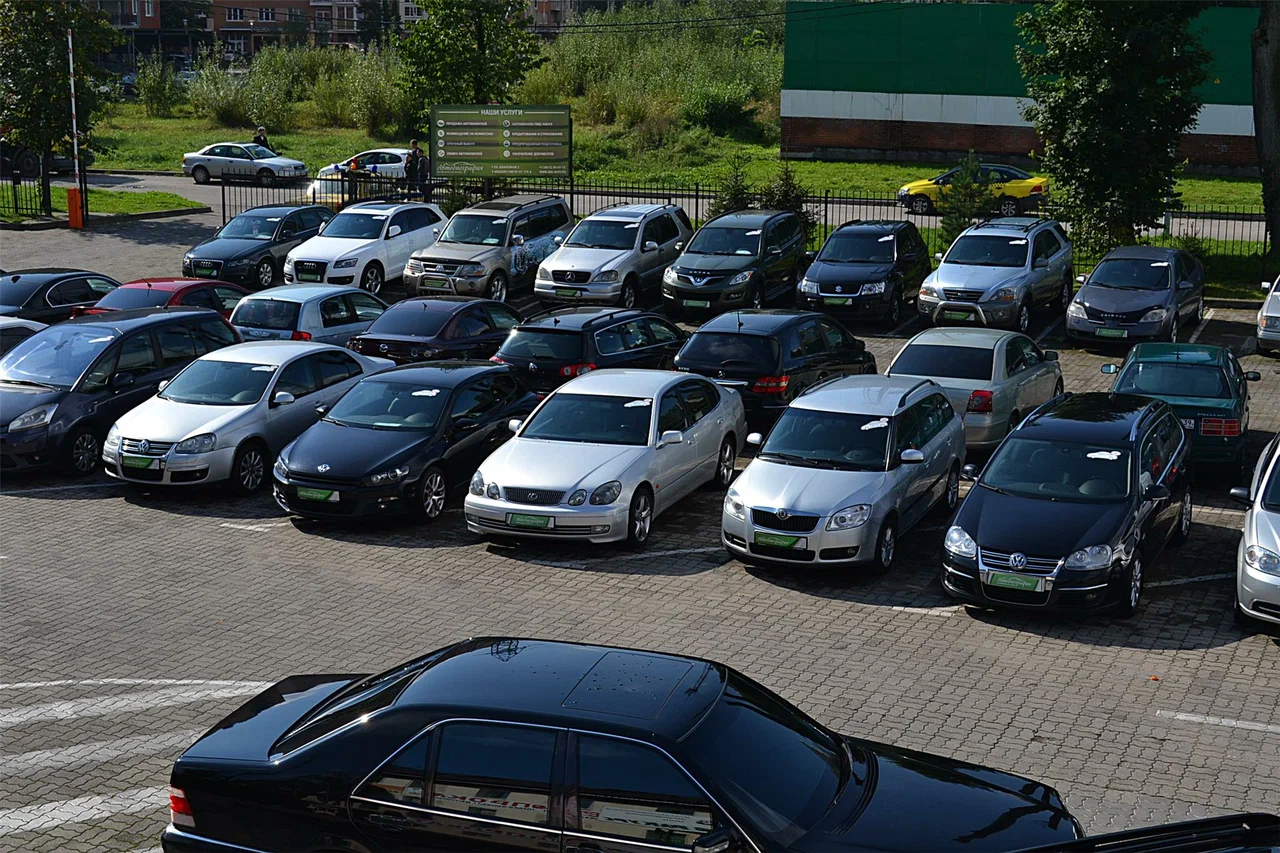Car: (161, 636, 1082, 853), (940, 391, 1192, 616), (464, 369, 747, 552), (721, 373, 970, 574), (271, 358, 544, 523), (103, 340, 395, 491), (0, 305, 243, 476), (670, 310, 878, 432), (884, 326, 1065, 451), (1101, 342, 1262, 478), (402, 192, 575, 302), (490, 305, 691, 396), (918, 215, 1074, 332), (534, 201, 694, 310), (663, 207, 810, 315), (284, 201, 448, 295), (796, 218, 932, 327), (1066, 245, 1205, 344), (181, 202, 338, 289), (344, 295, 523, 363), (1018, 813, 1280, 853), (230, 283, 389, 348), (1230, 431, 1280, 626), (897, 163, 1050, 215), (70, 276, 253, 319), (0, 266, 122, 326), (182, 141, 308, 185), (304, 168, 426, 212), (319, 147, 411, 173), (0, 145, 74, 176), (0, 316, 49, 357), (1256, 274, 1280, 353), (0, 268, 6, 276)
